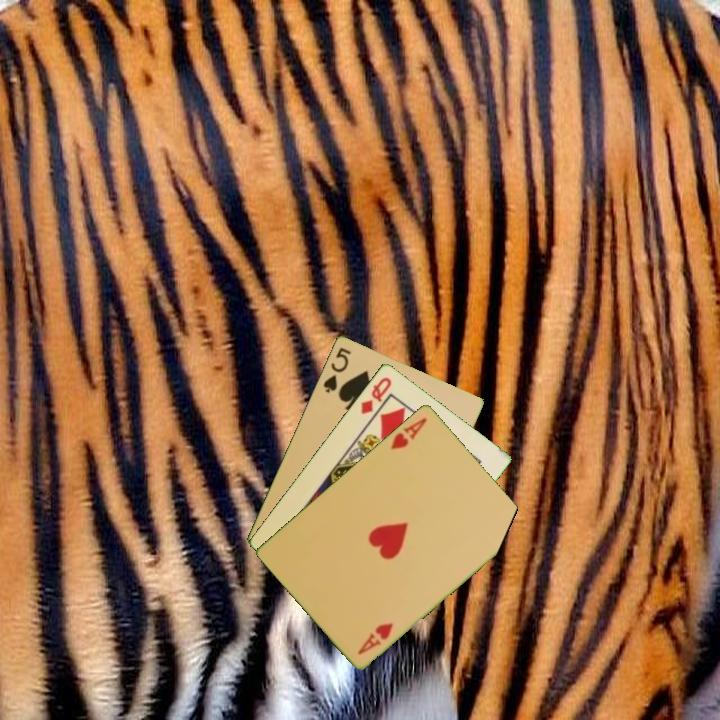5s: (319, 343, 354, 395)
Ah: (387, 414, 430, 452), (354, 619, 396, 657)
Qd: (357, 373, 395, 417)
